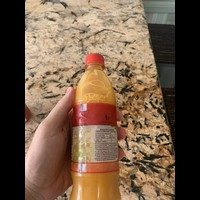maguary: (65, 52, 124, 200)
